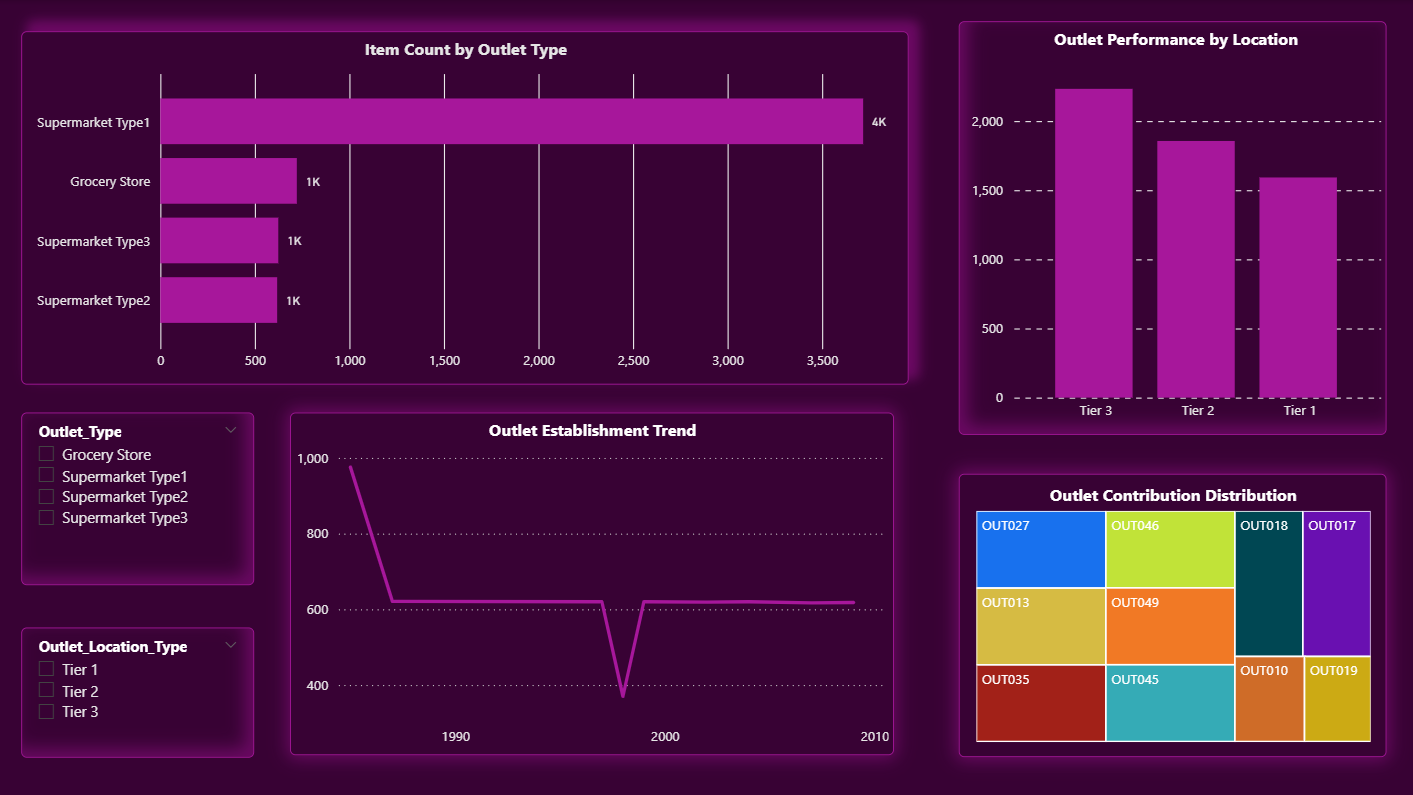

The page's visual inventory and layout, read from the dashboard file:
{"tool":"powerbi","page":{"name":"Page 3","canvas":[1280,720],"ordinal":2},"visuals":[{"type":"barChart","title":"Item Count by Outlet Type","fields":{"Category":["Test.Outlet_Type"],"Y":["CountNonNull(Test.Item_Identifier)"]},"box":[19.2,19.2,830.2,340.3],"z":0},{"type":"columnChart","title":"Outlet Performance by Location","fields":{"Category":["Test.Outlet_Location_Type"],"Y":["CountNonNull(Test.Item_Identifier)"]},"box":[865.9,19.2,396.6,393.8],"z":1000},{"type":"lineChart","title":"Outlet Establishment Trend","fields":{"Category":["Test.Outlet_Establishment_Year"],"Y":["CountNonNull(Test.Item_Identifier)"]},"box":[275.8,387,544.8,318.4],"z":2000},{"type":"treemap","title":"Outlet Contribution Distribution","fields":{"Group":["Test.Outlet_Identifier"],"Values":["CountNonNull(Test.Item_Identifier)"]},"box":[865.9,428.1,396.6,277.2],"z":3000},{"type":"slicer","fields":{"Values":["Test.Outlet_Type"]},"box":[19.2,391.1,209.9,155.1],"z":4000},{"type":"slicer","fields":{"Values":["Test.Outlet_Location_Type"]},"box":[20.6,577.7,209.9,118],"z":5000}]}

Visuals, with their boxes in screenshot pixels (x1, y1, x2, y2), scaled from the page's 1280x720 canvas onto the 1413x795 screenshot:
"Item Count by Outlet Type" barChart: l=21, t=21, r=938, b=397
"Outlet Performance by Location" columnChart: l=956, t=21, r=1394, b=456
"Outlet Establishment Trend" lineChart: l=304, t=427, r=906, b=779
"Outlet Contribution Distribution" treemap: l=956, t=473, r=1394, b=779
slicer - Test.Outlet_Type: l=21, t=432, r=253, b=603
slicer - Test.Outlet_Location_Type: l=23, t=638, r=254, b=768
